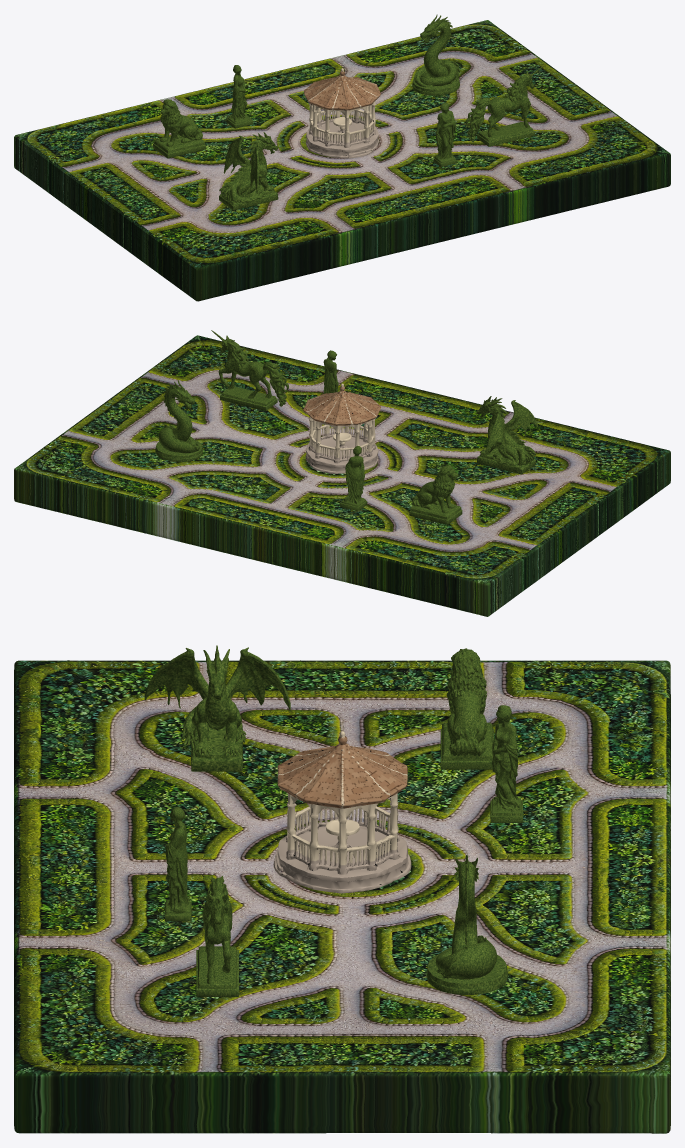
The model's file is garden-gazebo-topiary-reduced-v2.glb.
The picture shows the model from 3 angles, top to bottom: view 1: azimuth 30°, elevation 25°; view 2: azimuth 150°, elevation 25°; view 3: azimuth 270°, elevation 25°; orthographic projection. The views are drawn at different scales.
Parts seen in each view (by area): view 1: geometry_0, gazebo - original generated mesh, dragon - original generated mesh, unicorn - original generated mesh, serpent - original generated mesh, dog - original generated mesh, woman-rose - original generated mesh, woman-violet - original generated mesh; view 2: geometry_0, gazebo - original generated mesh, dragon - original generated mesh, unicorn - original generated mesh, serpent - original generated mesh, dog - original generated mesh, woman-violet - original generated mesh, woman-rose - original generated mesh; view 3: geometry_0, gazebo - original generated mesh, dragon - original generated mesh, serpent - original generated mesh, dog - original generated mesh, unicorn - original generated mesh, woman-violet - original generated mesh, woman-rose - original generated mesh.
Boxes of the visible parts, x1=… form: geometry_0: x1=14, y1=20, x2=670, y2=301; gazebo - original generated mesh: x1=304, y1=68, x2=380, y2=158; dragon - original generated mesh: x1=219, y1=132, x2=278, y2=210; unicorn - original generated mesh: x1=465, y1=66, x2=542, y2=146; serpent - original generated mesh: x1=412, y1=14, x2=460, y2=95; dog - original generated mesh: x1=153, y1=99, x2=205, y2=158; woman-rose - original generated mesh: x1=433, y1=102, x2=456, y2=166; woman-violet - original generated mesh: x1=226, y1=65, x2=253, y2=128; geometry_0: x1=14, y1=335, x2=670, y2=616; gazebo - original generated mesh: x1=303, y1=383, x2=380, y2=473; dragon - original generated mesh: x1=476, y1=396, x2=538, y2=474; unicorn - original generated mesh: x1=211, y1=330, x2=288, y2=410; serpent - original generated mesh: x1=155, y1=380, x2=202, y2=461; dog - original generated mesh: x1=409, y1=465, x2=462, y2=524; woman-violet - original generated mesh: x1=340, y1=446, x2=367, y2=510; woman-rose - original generated mesh: x1=323, y1=350, x2=338, y2=393; geometry_0: x1=14, y1=660, x2=670, y2=1133; gazebo - original generated mesh: x1=273, y1=731, x2=411, y2=893; dragon - original generated mesh: x1=144, y1=645, x2=290, y2=771; serpent - original generated mesh: x1=426, y1=855, x2=507, y2=994; dog - original generated mesh: x1=440, y1=648, x2=493, y2=769; unicorn - original generated mesh: x1=196, y1=876, x2=238, y2=997; woman-violet - original generated mesh: x1=490, y1=705, x2=522, y2=822; woman-rose - original generated mesh: x1=164, y1=807, x2=191, y2=921.
Size of the model in its own units: 1.99 by 0.4392 by 1.33.
8 materials, 8 textured.
